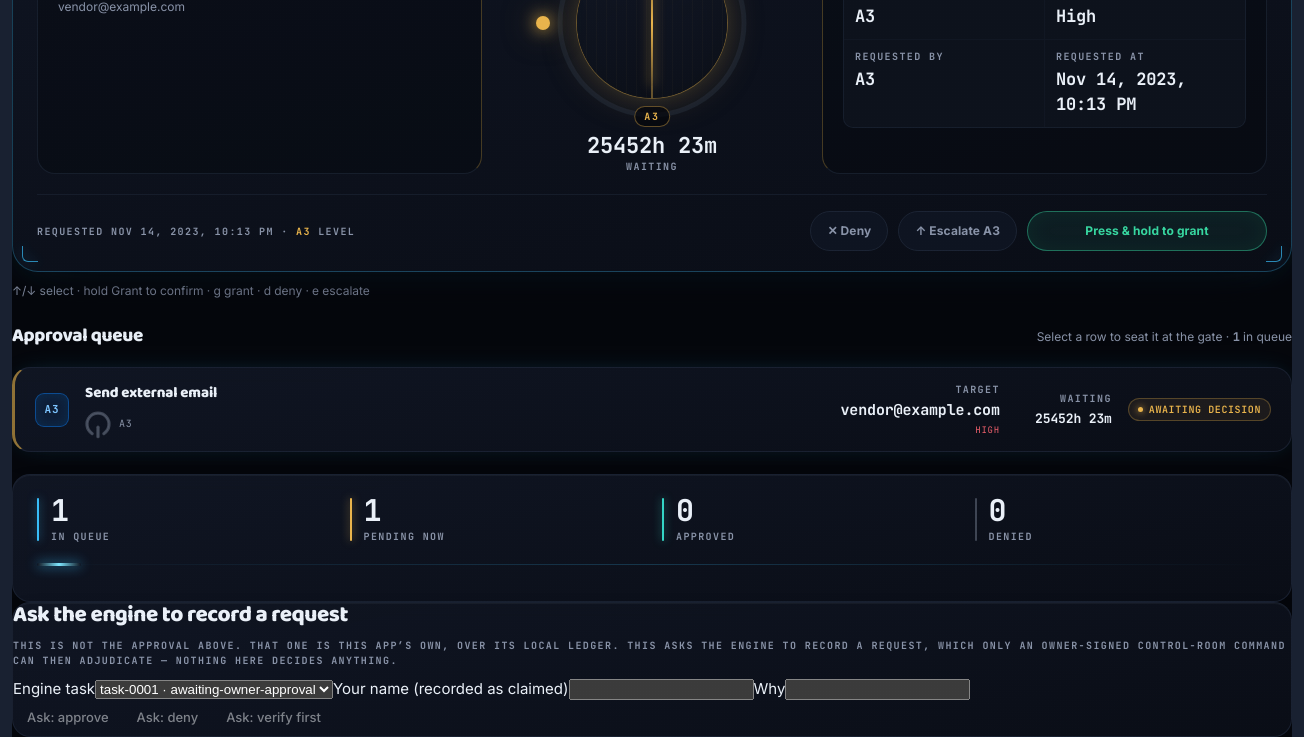
it: the engine REQUEST section › renders the engine's refusal as a refusal
(page scrolled)
Expected: the dropdown labelled "Engine task" is shown, [95,680,333,699]
Type "gev" into the field labelled "Your name (recorded as claimed)" at (661, 689), box [568,679,754,700]
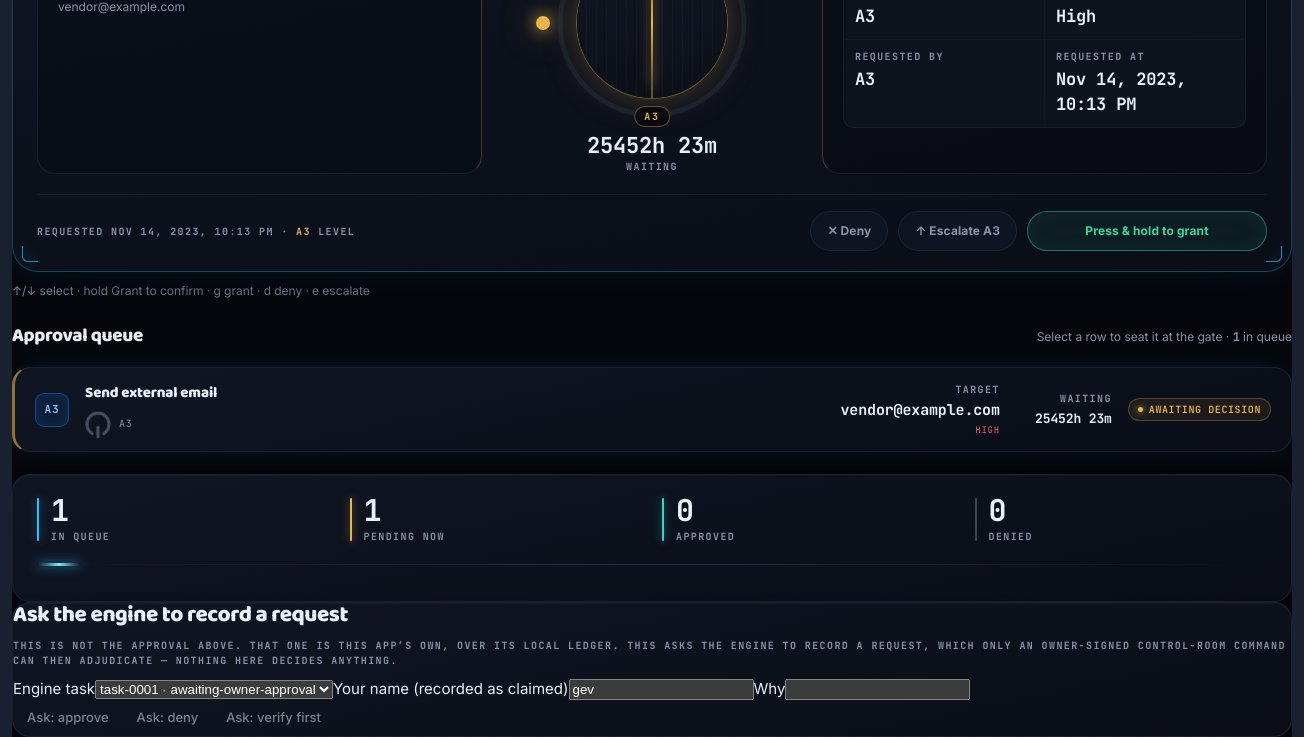
Type "the owner should see this" into the field labelled "Why" at (878, 689), box [785,679,970,700]
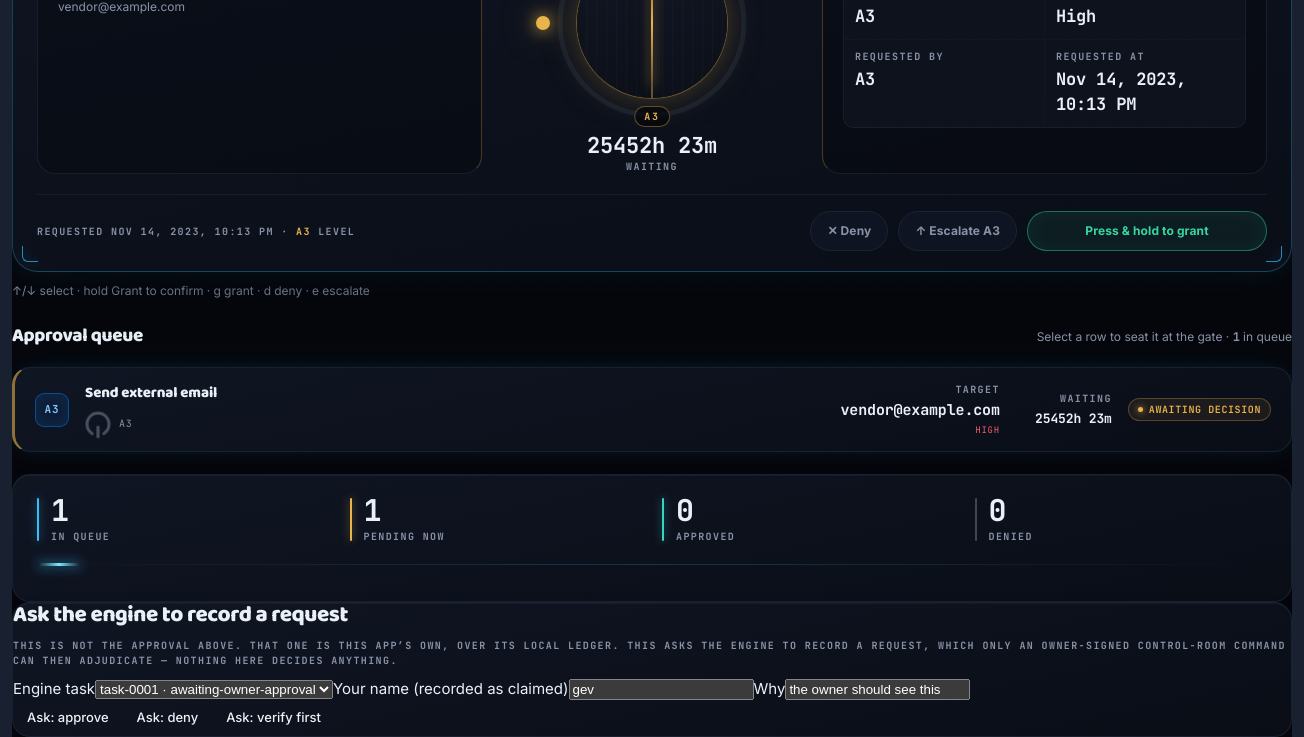
Click the button "Ask: approve" at (68, 718), box [13,700,122,736]
(page scrolled)
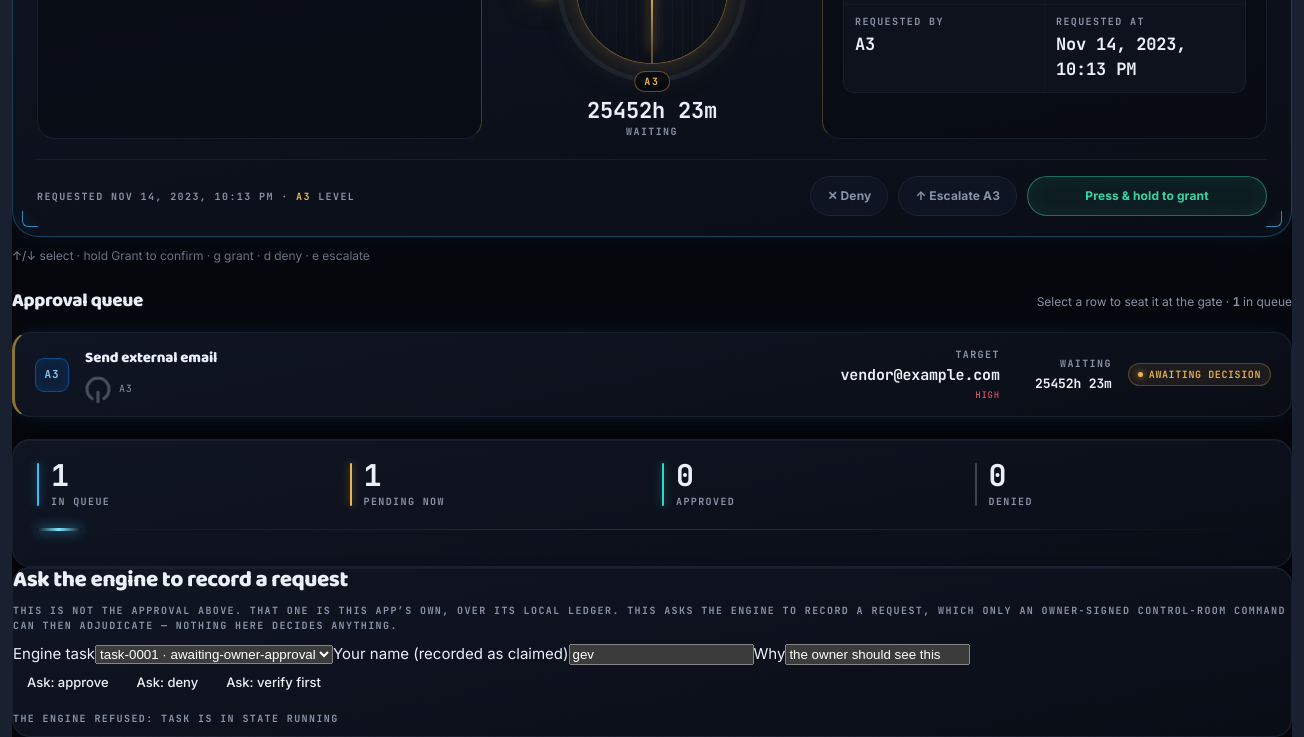
Expected: the text "The engine refused: task is in state running" is shown, [13,712,339,725]
